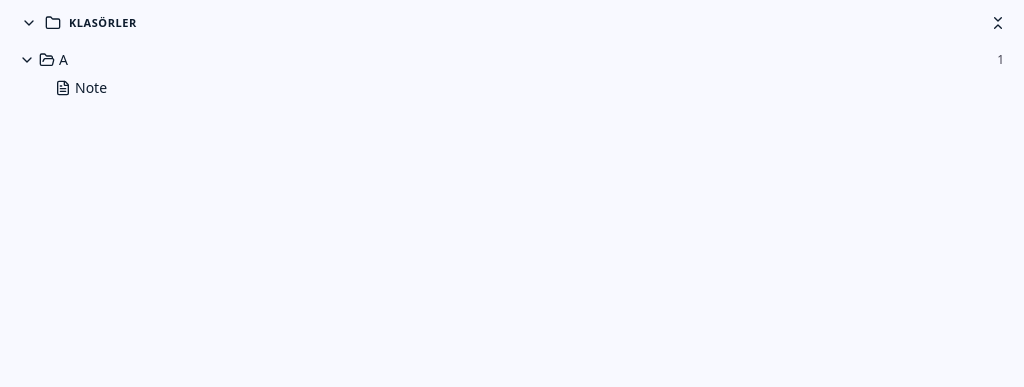
Test: SidebarTree keyboard focus › labels PDF export on Linux
Right-click the list item with aria-label "Not: Note" at point(81, 88), box [55,78,107,97]
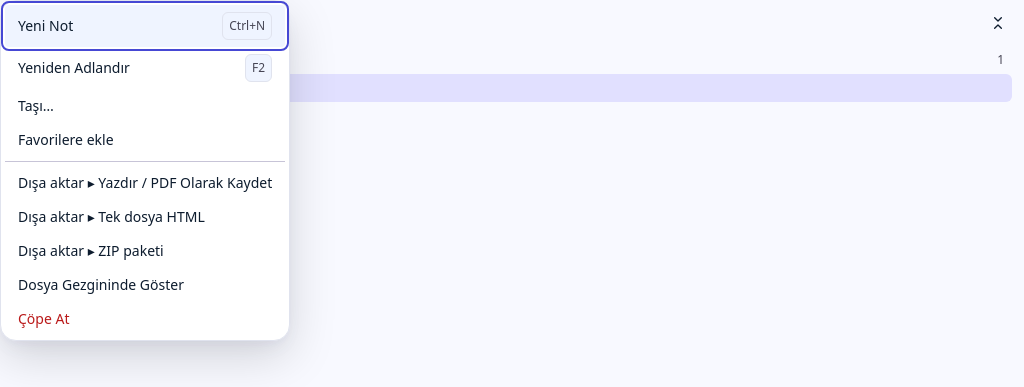
Expected: the menu item "Dışa aktar ▸ Yazdır / PDF Olarak Kaydet" is enabled, [5,166,285,200]
